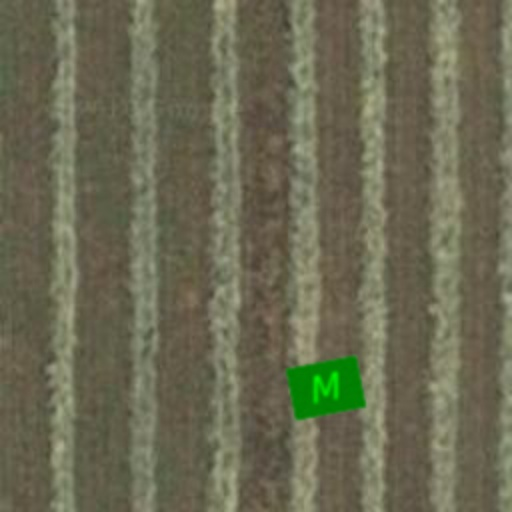rectangle: (282, 344, 370, 432)
